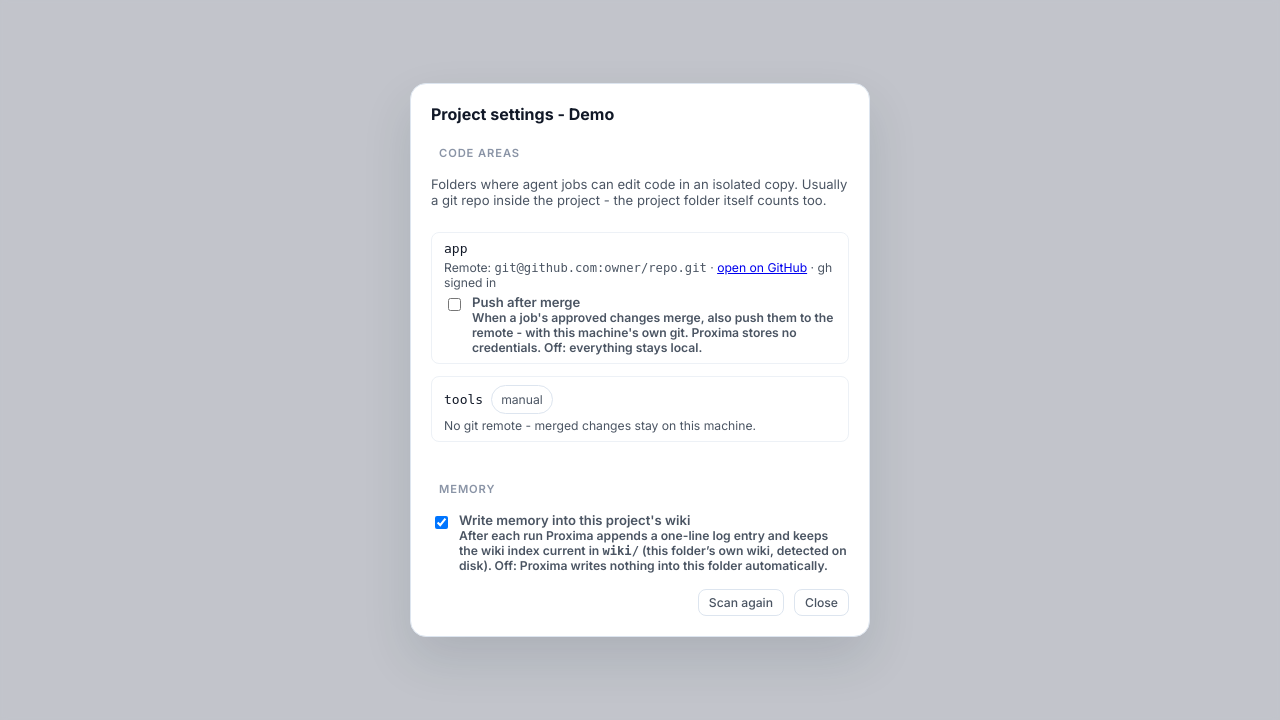
Test case: ContainerSettingsModal › a refused memory toggle surfaces the error without flipping
What coordinates should you click on to do the following:
click the checkbox labelled "Write memory into this project's wiki"
I would click on:
 (442, 522)
Its box is [435,516,448,529].
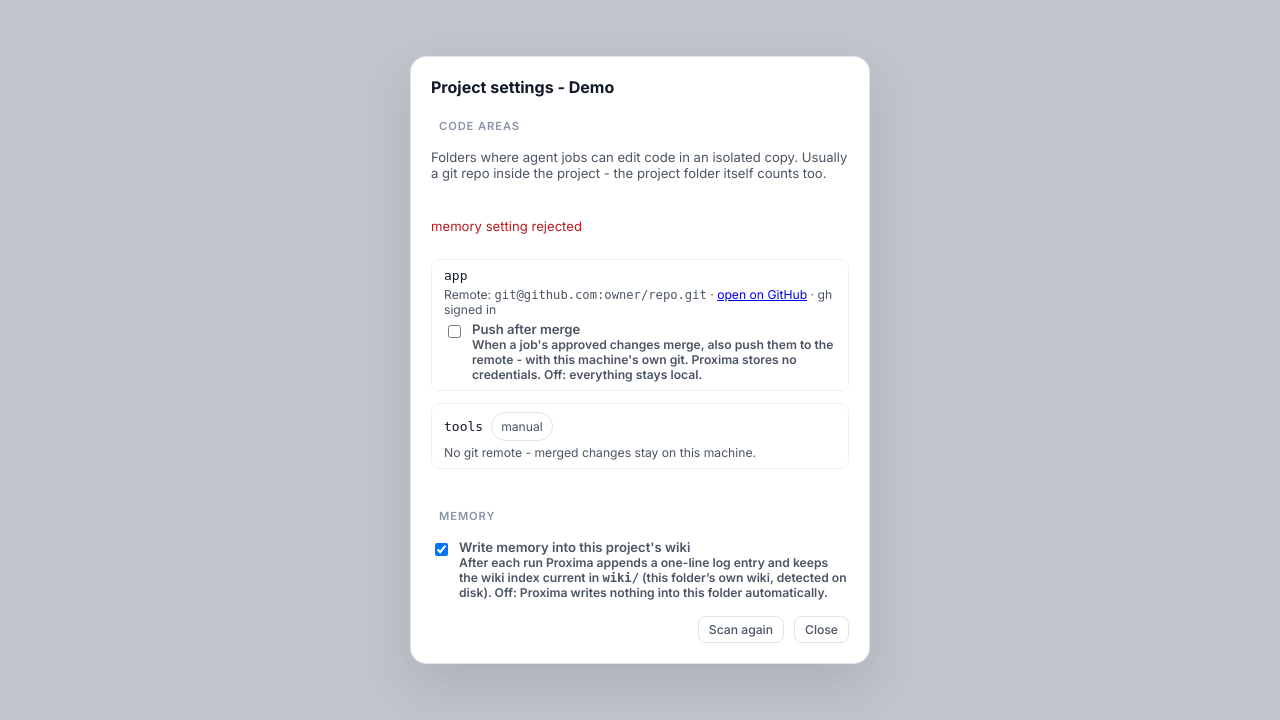
Expected: the checkbox labelled "Write memory into this project's wiki" is checked, [435,543,448,556]
Now the text "memory setting rejected" is shown, box [431,218,582,234]
